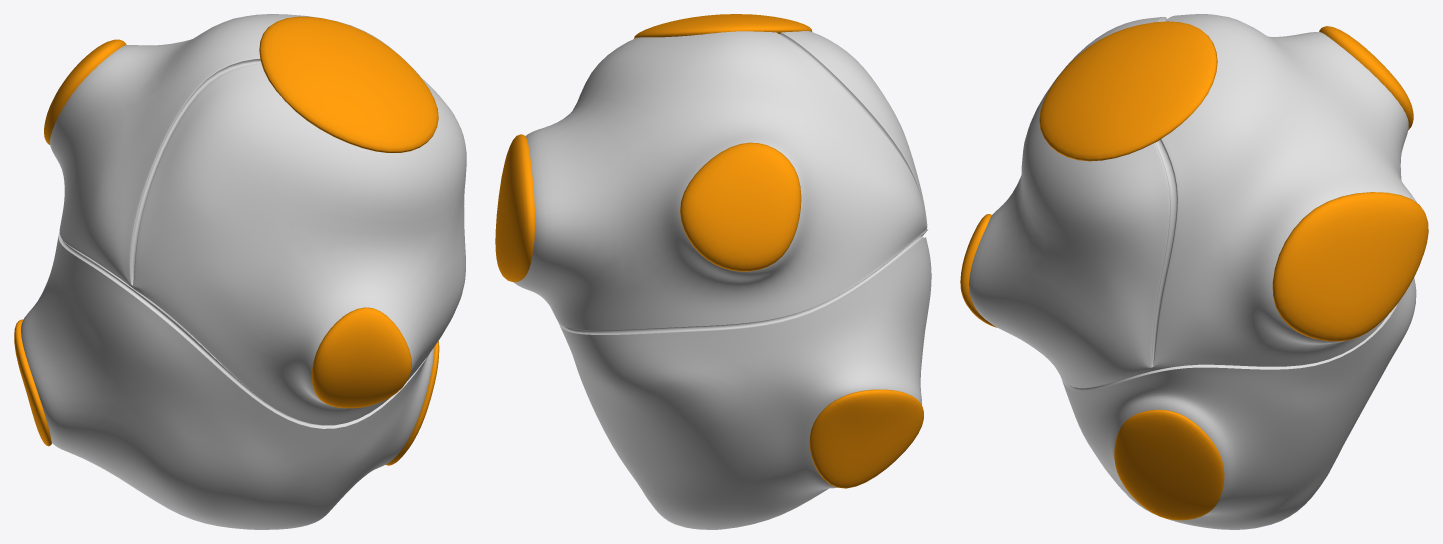
The model's file is heart-drone.fbx.
3 views of the same model, side by side, from view 1: azimuth 30°, elevation 25°; view 2: azimuth 150°, elevation 25°; view 3: azimuth 270°, elevation 25° (orthographic). The views are drawn at different scales.
Parts seen in each view (by area): view 1: pSolid2, pSolid1; view 2: pSolid2, pSolid1; view 3: pSolid2, pSolid1.
Part boxes in pixels (x1,y1,x2,y2): pSolid2: (21,14,466,529); pSolid1: (14,16,439,465); pSolid2: (514,31,931,529); pSolid1: (495,14,923,488); pSolid2: (969,14,1416,529); pSolid1: (960,21,1428,520).
Size of the model in its own units: 2.64 by 3.1 by 2.65.
